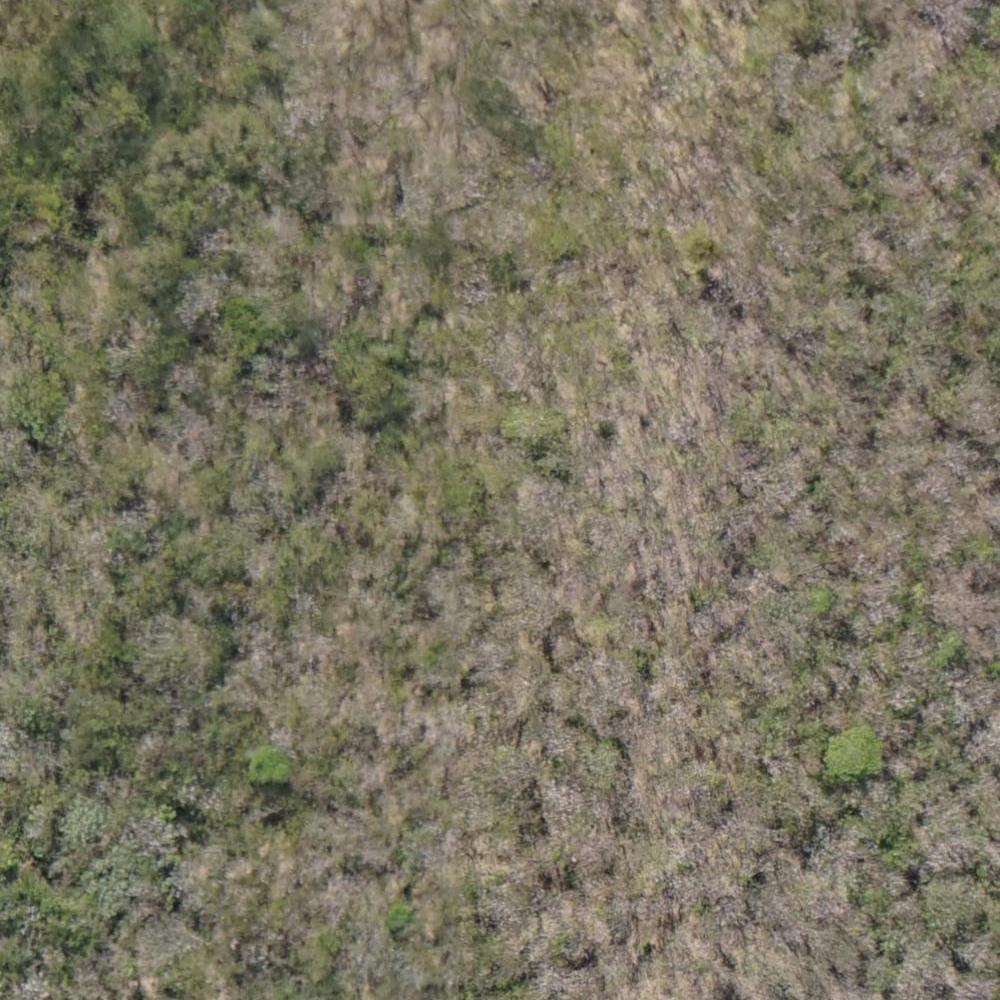tree: (822, 725, 892, 779), (248, 742, 293, 787), (388, 899, 422, 939)
